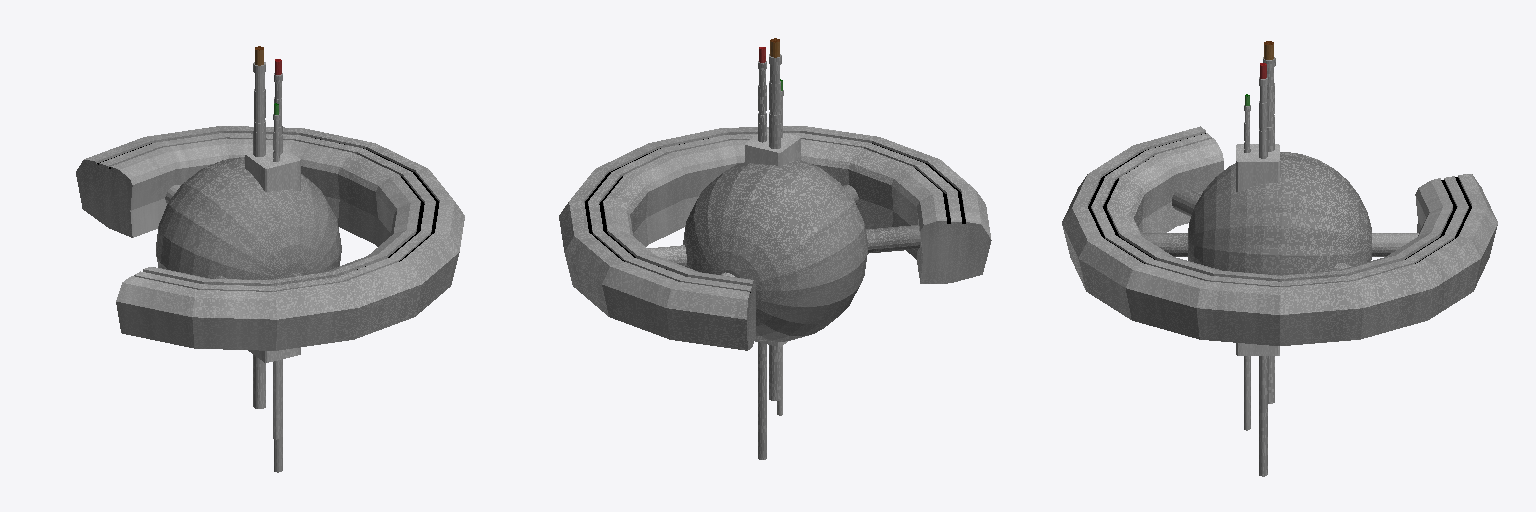
3 views of the same model, side by side, from view 1: azimuth 30°, elevation 25°; view 2: azimuth 150°, elevation 25°; view 3: azimuth 270°, elevation 25° (orthographic).
Parts seen in each view (by area): view 1: polySurface3; view 2: polySurface3; view 3: polySurface3.
Part boxes in pixels (x1,y1,x2,y2): polySurface3: (76,46,464,472); polySurface3: (559,38,991,459); polySurface3: (1062,41,1497,476).
Size of the model in its own units: 27 by 30.08 by 28.07.
Materials: 1 (1 with a texture image).